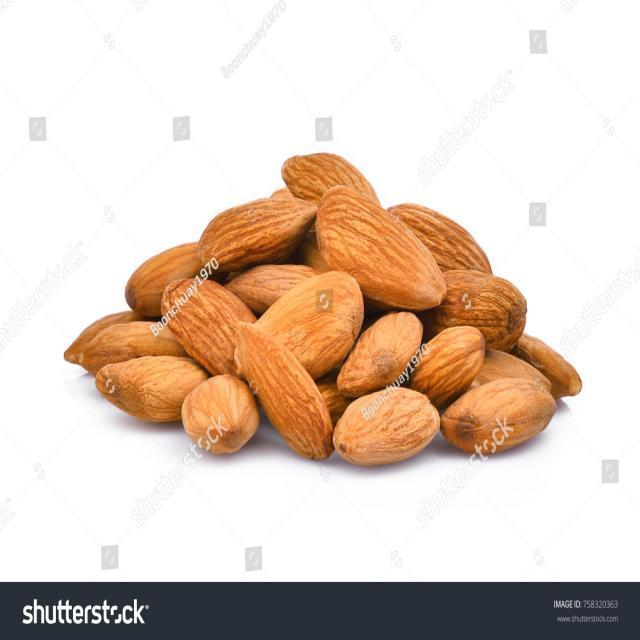almond: (313, 185, 452, 310), (233, 320, 335, 460), (259, 265, 364, 378), (160, 275, 257, 373), (387, 195, 493, 282), (335, 382, 442, 462), (443, 380, 557, 455), (198, 200, 317, 270), (95, 357, 212, 425), (330, 307, 425, 388), (179, 373, 259, 455), (408, 322, 487, 395)
